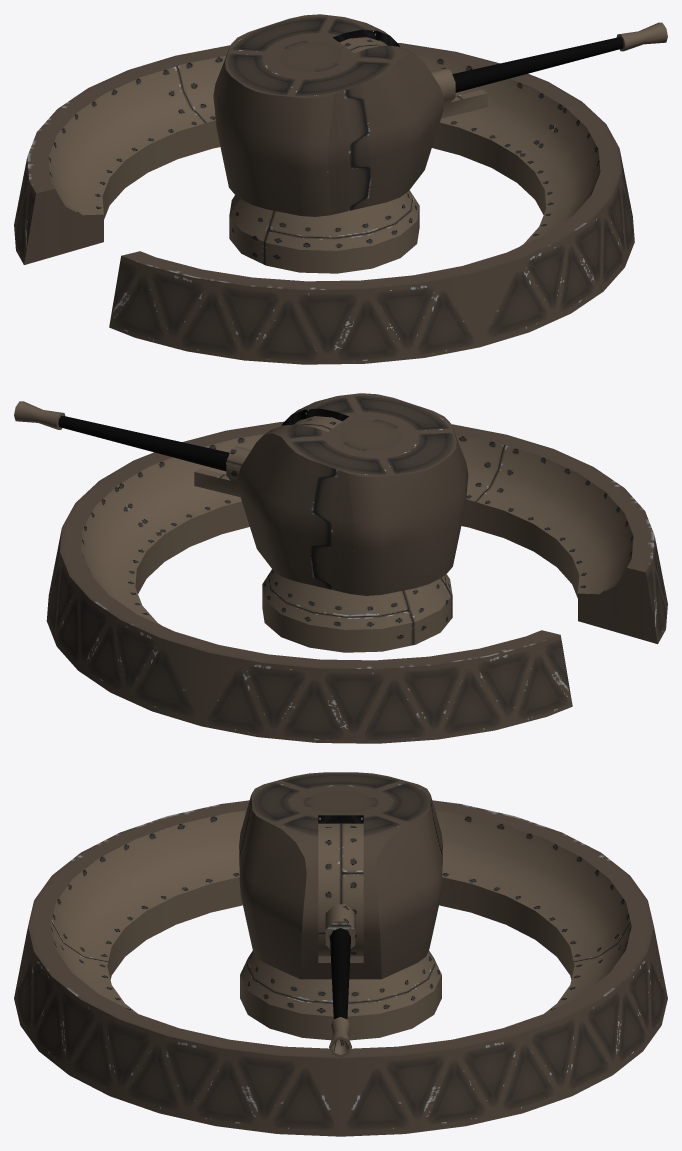
File: Ground_Tower_level1 1.fbx
The picture shows the model from 3 angles, top to bottom: view 1: azimuth 30°, elevation 25°; view 2: azimuth 150°, elevation 25°; view 3: azimuth 270°, elevation 25°; orthographic projection. The views are drawn at different scales.
Parts seen in each view (by area): view 1: GT1_Wall, GT1_Body, GT1_Base, GT1_Barrel; view 2: GT1_Wall, GT1_Body, GT1_Base, GT1_Barrel; view 3: GT1_Wall, GT1_Body, GT1_Base, GT1_Barrel.
Boxes of the visible parts, x1=… form: GT1_Wall: x1=14, y1=43, x2=634, y2=364; GT1_Body: x1=213, y1=14, x2=443, y2=216; GT1_Base: x1=229, y1=190, x2=419, y2=273; GT1_Barrel: x1=339, y1=22, x2=667, y2=118; GT1_Wall: x1=46, y1=421, x2=667, y2=743; GT1_Body: x1=237, y1=393, x2=468, y2=595; GT1_Base: x1=262, y1=569, x2=452, y2=652; GT1_Barrel: x1=14, y1=401, x2=341, y2=496; GT1_Wall: x1=14, y1=800, x2=667, y2=1136; GT1_Body: x1=239, y1=772, x2=442, y2=979; GT1_Base: x1=240, y1=950, x2=441, y2=1040; GT1_Barrel: x1=318, y1=823, x2=363, y2=1057.
Bounding box in the file's own units: 604 × 179 × 547.
